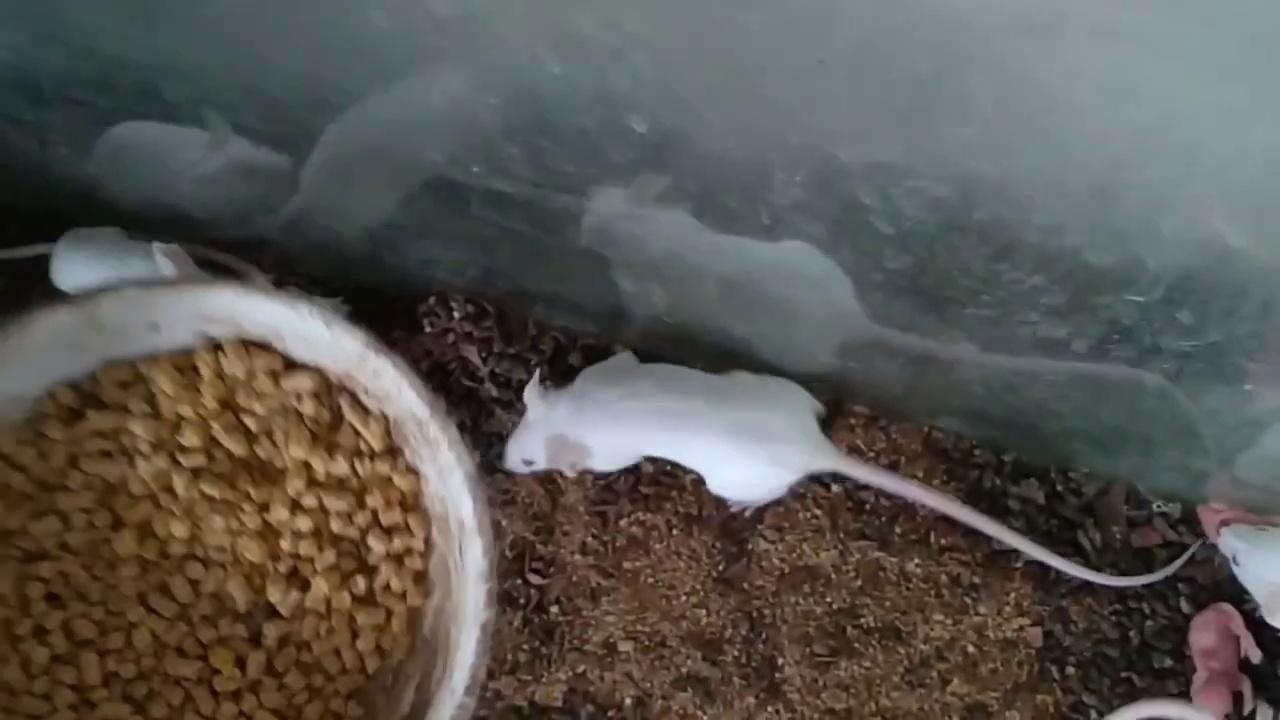rat: (507, 350, 1202, 587), (0, 224, 218, 296), (1216, 522, 1280, 628)
